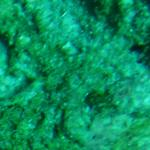dead: (2, 1, 143, 147)
